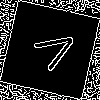V: (25, 25, 81, 77)
